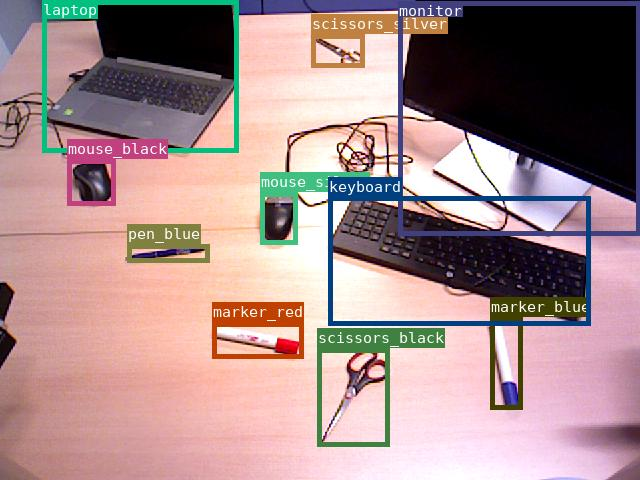keyboard: (328, 196, 590, 325)
laptop: (42, 0, 238, 152)
marker_blue: (490, 317, 522, 409)
marker_red: (212, 322, 303, 358)
monitor: (398, 1, 640, 235)
mouse_black: (67, 159, 115, 205)
mouse_silver: (260, 192, 297, 244)
pen_blue: (127, 244, 209, 262)
scissors_black: (317, 348, 389, 446)
scissors_silver: (311, 34, 364, 67)
